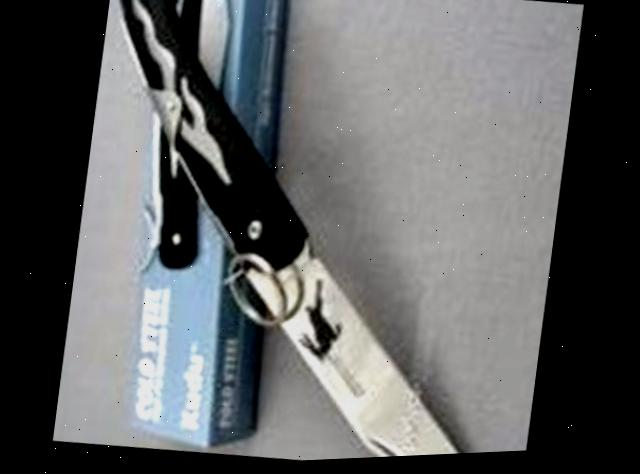pocket-knife: (53, 0, 568, 472)
